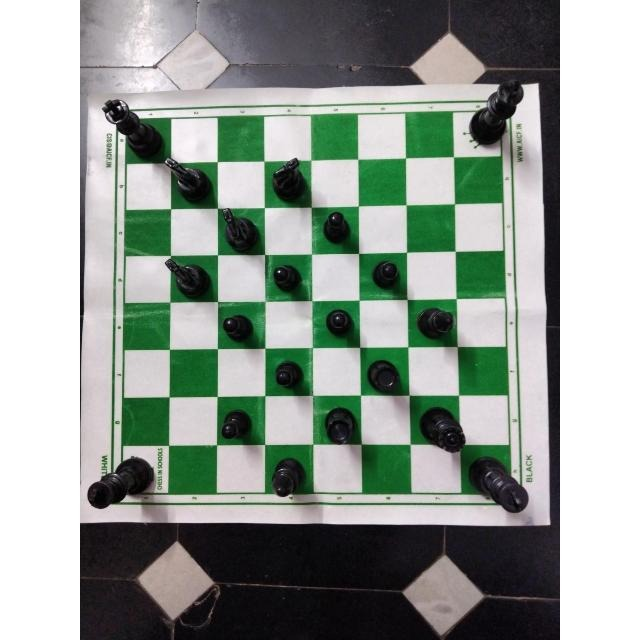black-bishop: (265, 449, 311, 504), (412, 299, 460, 345)
black-king: (458, 76, 526, 148), (99, 91, 168, 160), (88, 455, 164, 516), (462, 456, 530, 520)
black-knight: (161, 156, 217, 206), (164, 251, 216, 301), (264, 156, 313, 208), (214, 206, 266, 254)
black-pawn: (216, 310, 259, 352), (212, 404, 255, 445), (317, 303, 359, 338), (266, 356, 306, 392), (270, 257, 307, 295), (322, 210, 356, 246), (368, 255, 400, 293)
black-queen: (418, 403, 470, 455)
black-rook: (362, 351, 406, 396), (320, 402, 359, 446)
